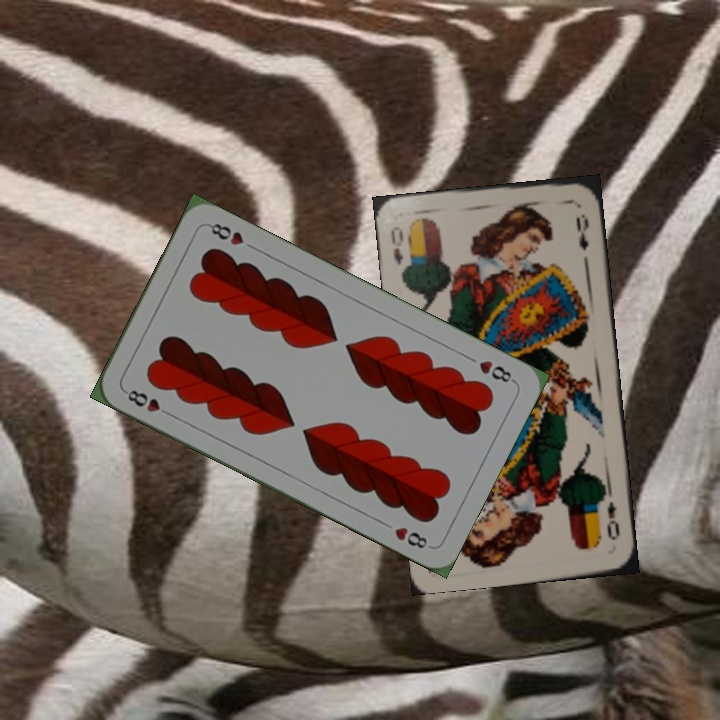EO: (386, 222, 407, 268), (603, 497, 622, 543)
H8: (120, 385, 175, 419), (475, 356, 518, 386)
